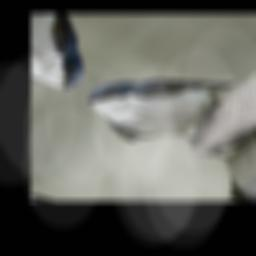Swallow: (71, 36, 256, 168)
